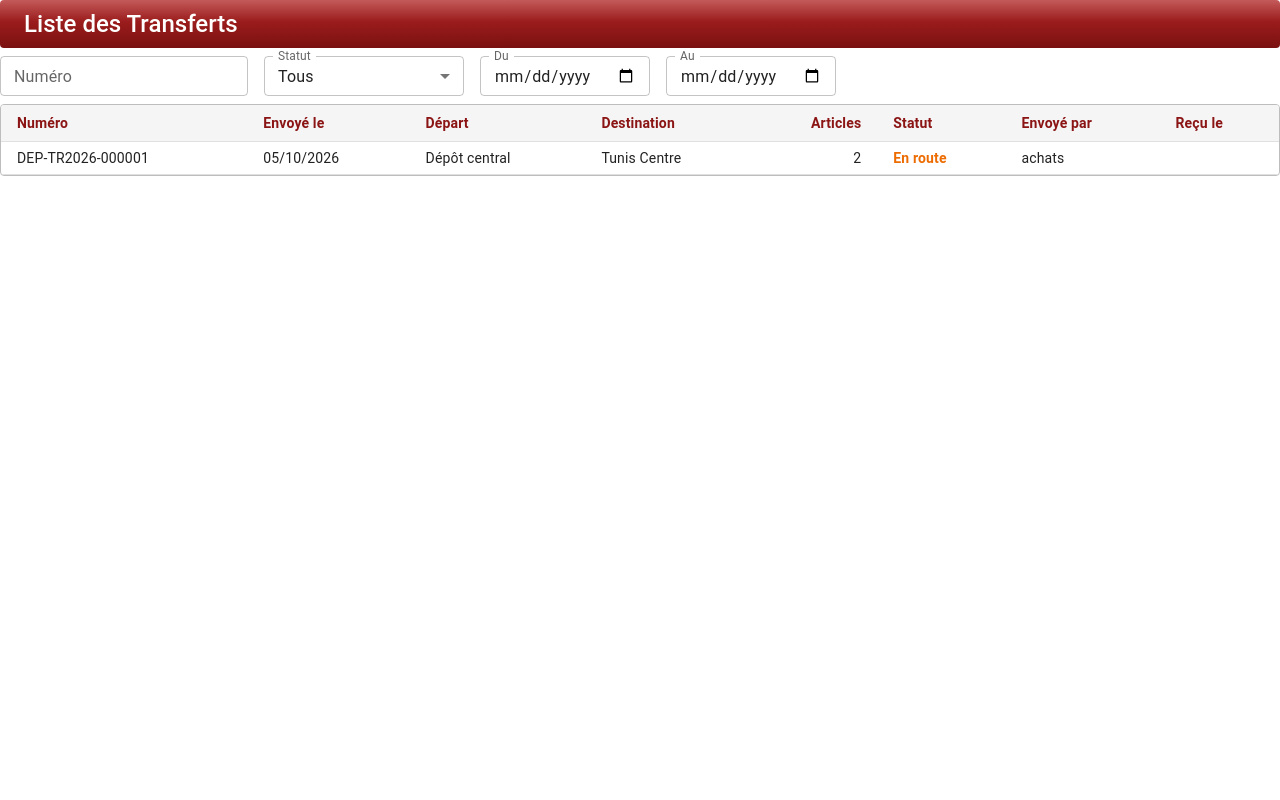
Scenario: sans le droit d'envoyer, pas de bouton Annuler
Click the text "DEP-TR2026-000001". click: [124, 158]
box: [1,142,247,175]
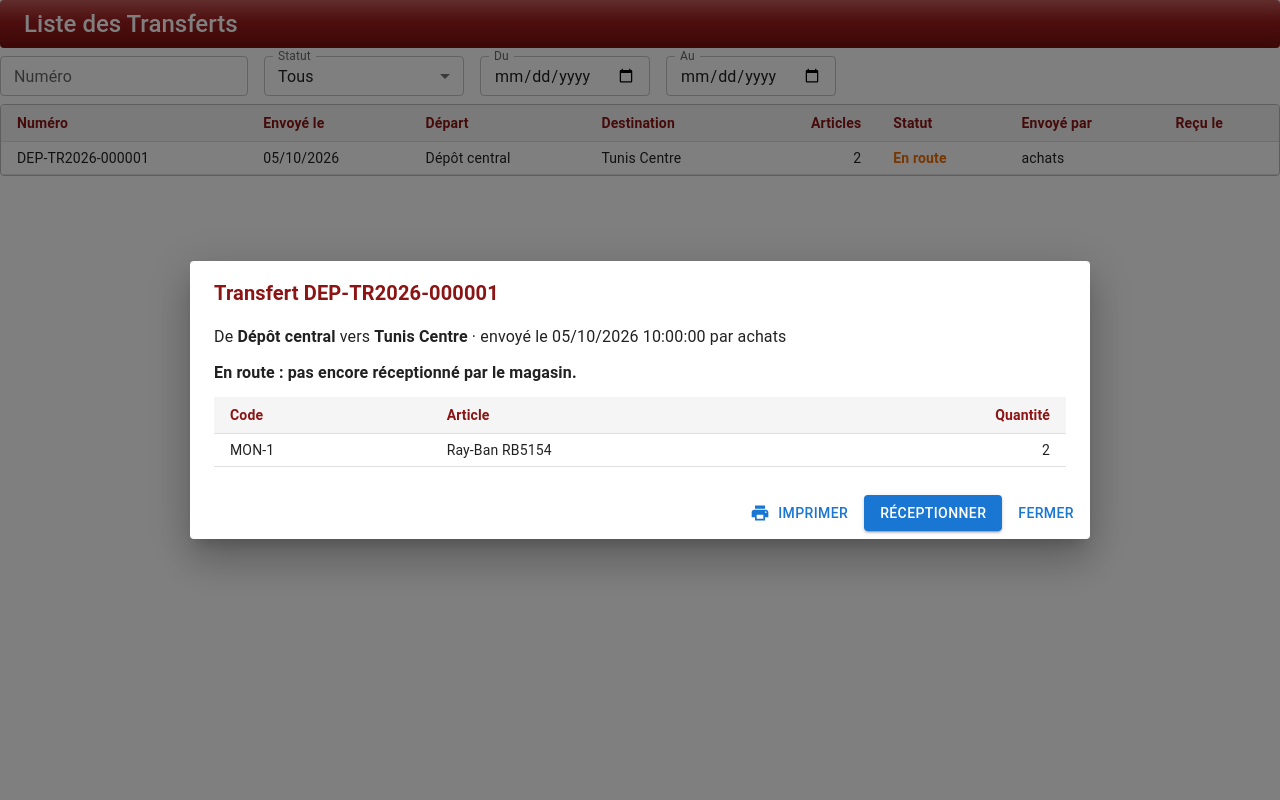
Expected: the button "Réceptionner" is shown, [864,495,1002,531]
